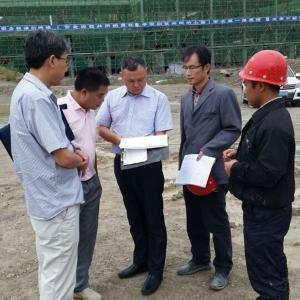none: (22, 29, 70, 88), (74, 66, 109, 110), (120, 52, 150, 95), (182, 45, 212, 88)
red: (240, 49, 289, 109)
